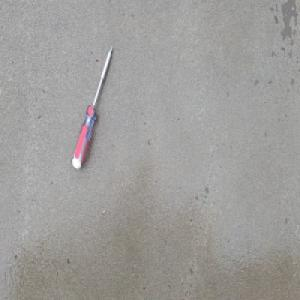Screwdriver: (70, 43, 113, 172)
